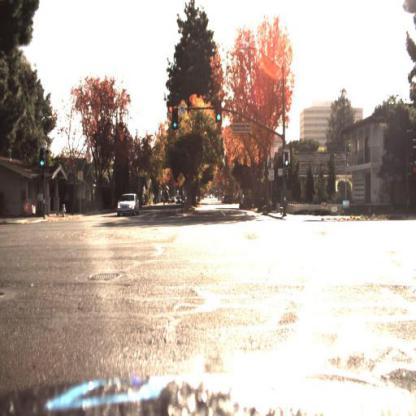car: (114, 193, 141, 219), (118, 193, 141, 219)
trafficLight-Green: (216, 100, 223, 126), (284, 148, 292, 168), (217, 110, 222, 131), (284, 157, 289, 173)
trafficLight-GreenLeft: (170, 105, 181, 135), (39, 148, 48, 172), (39, 150, 48, 172), (172, 119, 177, 141)
